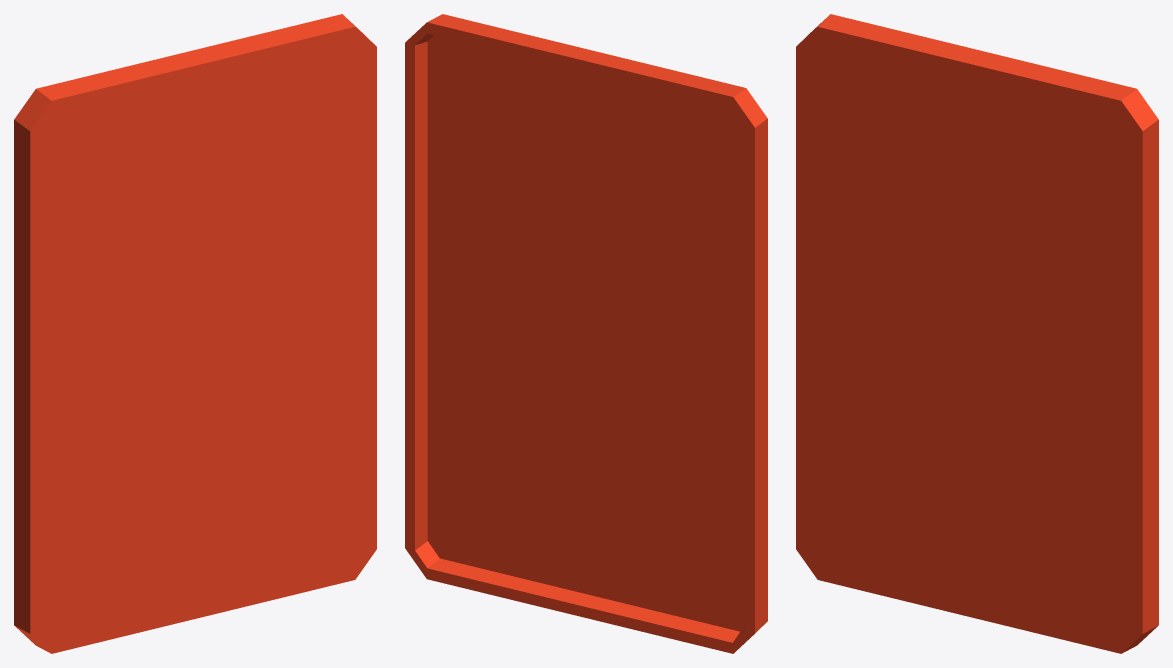
File: SM_Sign_Bus_A_City.fbx
3 views of the same model, side by side, from view 1: azimuth 30°, elevation 25°; view 2: azimuth 150°, elevation 25°; view 3: azimuth 330°, elevation 25° (orthographic).
Visible parts, largest first — view 1: SM_Sign_Bus_A_City; view 2: SM_Sign_Bus_A_City; view 3: SM_Sign_Bus_A_City.
Part boxes in pixels (x1,y1,x2,y2): SM_Sign_Bus_A_City: [14, 14, 376, 653]; SM_Sign_Bus_A_City: [405, 14, 767, 653]; SM_Sign_Bus_A_City: [796, 14, 1158, 653].
Bounding box in the file's own units: 0.3005 × 0.457 × 0.0215.
